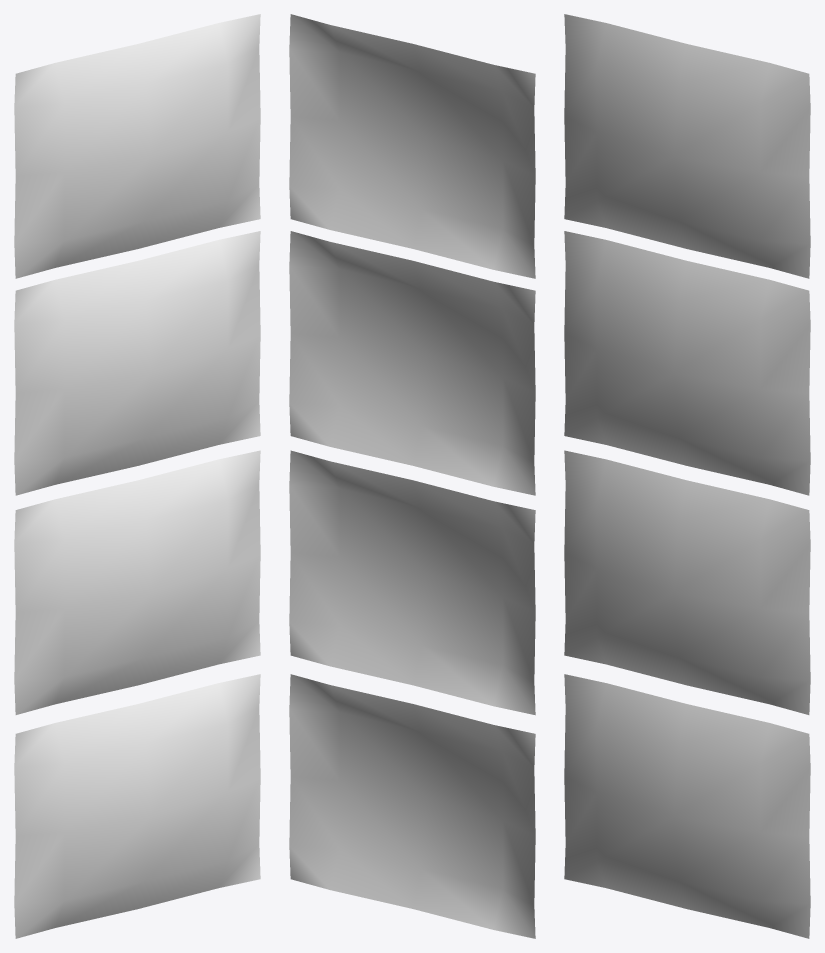
The model's file is Cobwebs.FBX.
3 renders of one model, left to right at view 1: azimuth 30°, elevation 25°; view 2: azimuth 150°, elevation 25°; view 3: azimuth 330°, elevation 25°, orthographic.
Visible parts, largest first — view 1: Cobweb4, Cobweb2, Cobweb1, Cobweb3; view 2: Cobweb1, Cobweb3, Cobweb2, Cobweb4; view 3: Cobweb4, Cobweb2, Cobweb1, Cobweb3.
Part boxes in pixels (x1=…): Cobweb4: x1=14, y1=674, x2=260, y2=938; Cobweb2: x1=14, y1=231, x2=260, y2=495; Cobweb1: x1=14, y1=14, x2=260, y2=278; Cobweb3: x1=14, y1=450, x2=260, y2=714; Cobweb1: x1=289, y1=14, x2=535, y2=278; Cobweb3: x1=289, y1=450, x2=535, y2=715; Cobweb2: x1=289, y1=231, x2=535, y2=495; Cobweb4: x1=289, y1=674, x2=535, y2=938; Cobweb4: x1=564, y1=674, x2=810, y2=938; Cobweb2: x1=564, y1=231, x2=810, y2=495; Cobweb1: x1=564, y1=14, x2=810, y2=278; Cobweb3: x1=564, y1=450, x2=810, y2=714.
Size of the model in its own units: 98.43 by 332 by 9.88.
